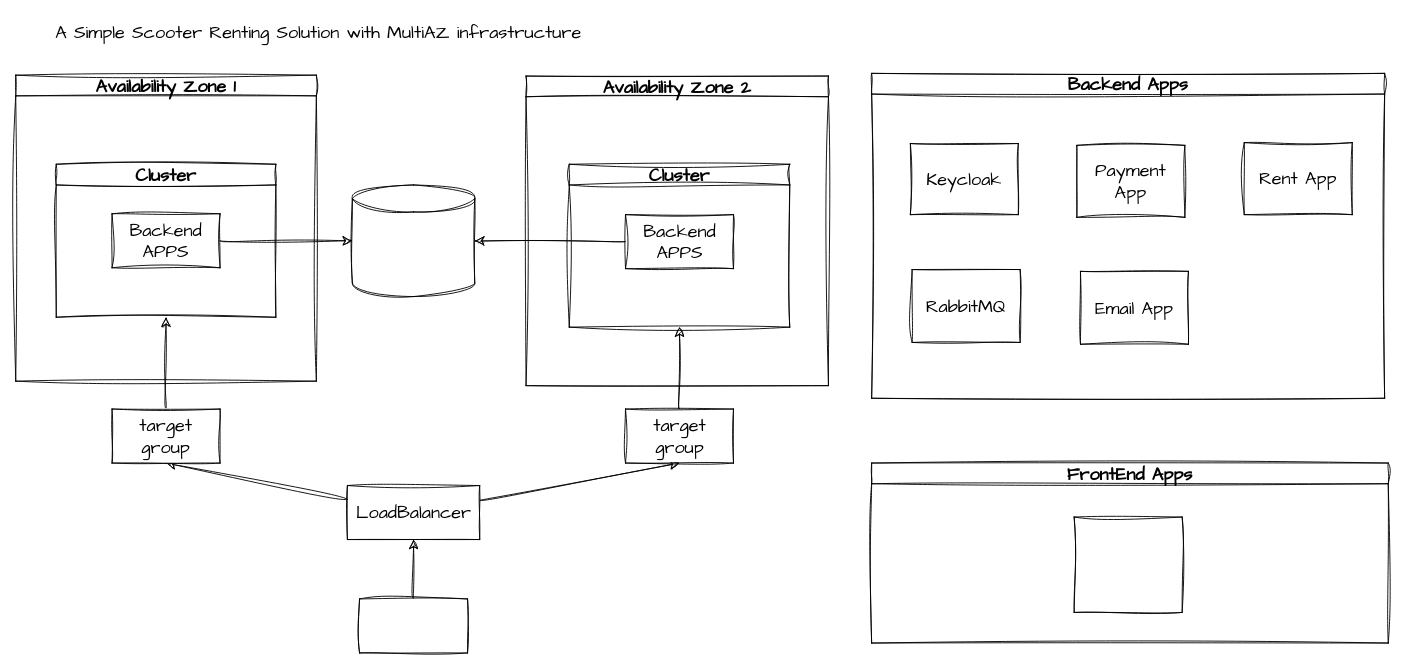
Image size: 1404x669. Some labels were removed from this diagram. Here are the shapes that lost their labels. From the top down, the centre of each, then its label:
At pixel 413 240: "DB Host (MultiAZ)".
At pixel 1127 564: "UI for viewing / renting scooters".
At pixel 413 625: "API GW".
